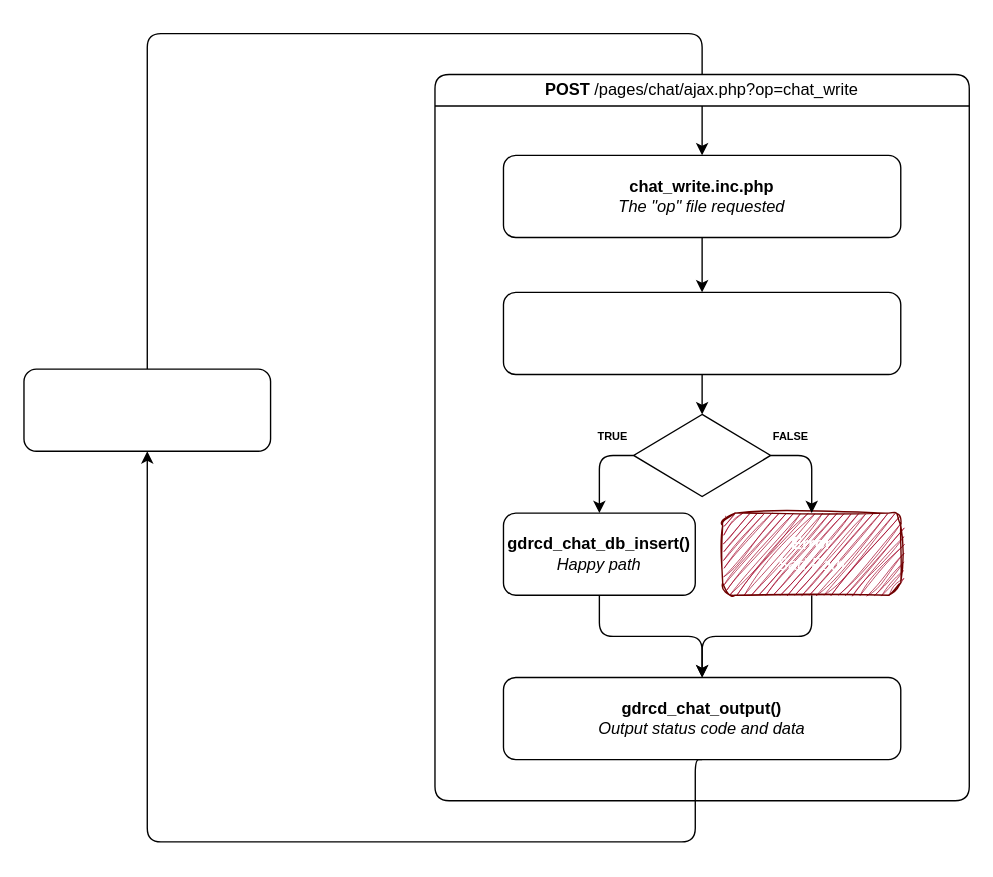
The diagram is 993 pixels wide and 877 high, and some of its shapes have lost their labels. The shapes that lost their labels are listed below. From the top down, each one's centre as x and y in pixels, then its label:
the point at 701,333: gdrcd_chat_write_message() Parses the user payload and attempt to store it
the point at 147,409: (Frontend) chat_input.php User submit the form
the point at 701,454: Success
